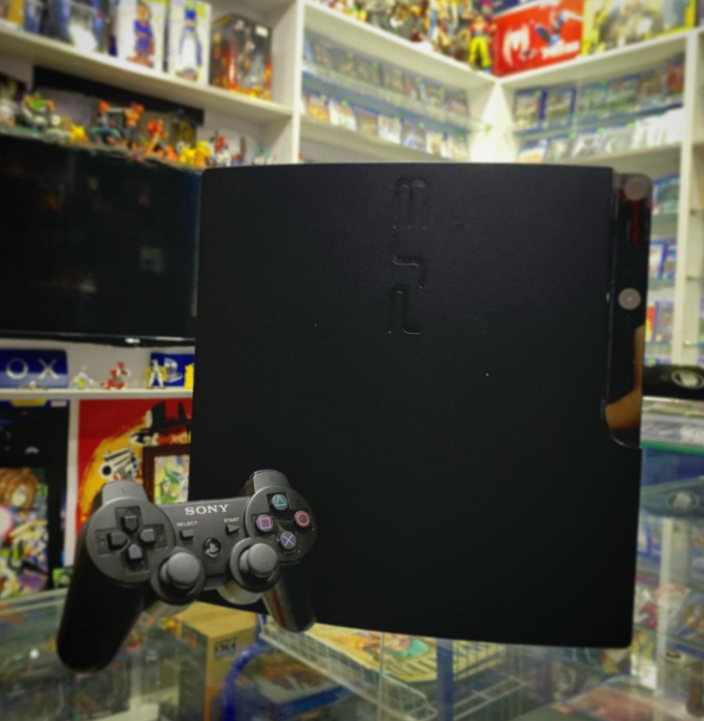gamingconsole: (53, 471, 318, 651)
